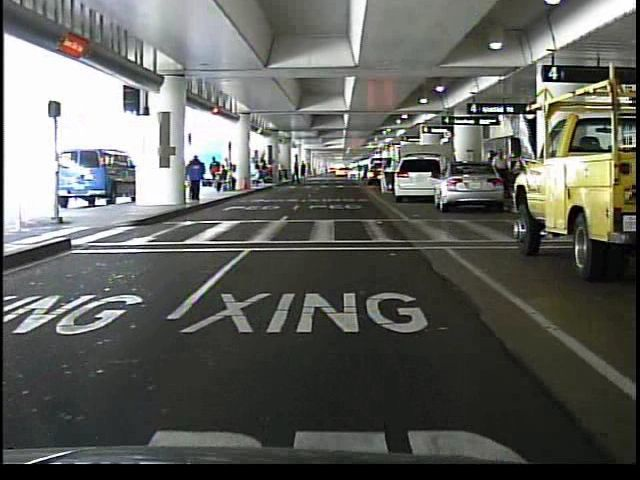person: (184, 152, 208, 205)
